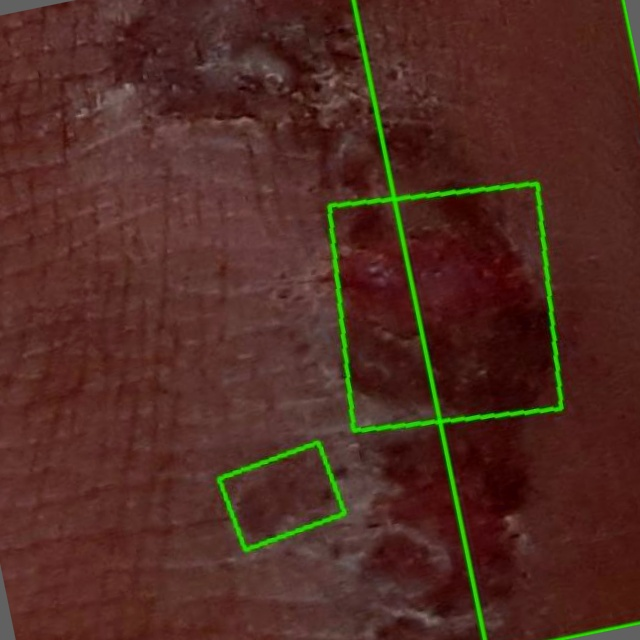Contact Dermatitis: (353, 0, 639, 639), (328, 182, 561, 430), (218, 442, 344, 549)
